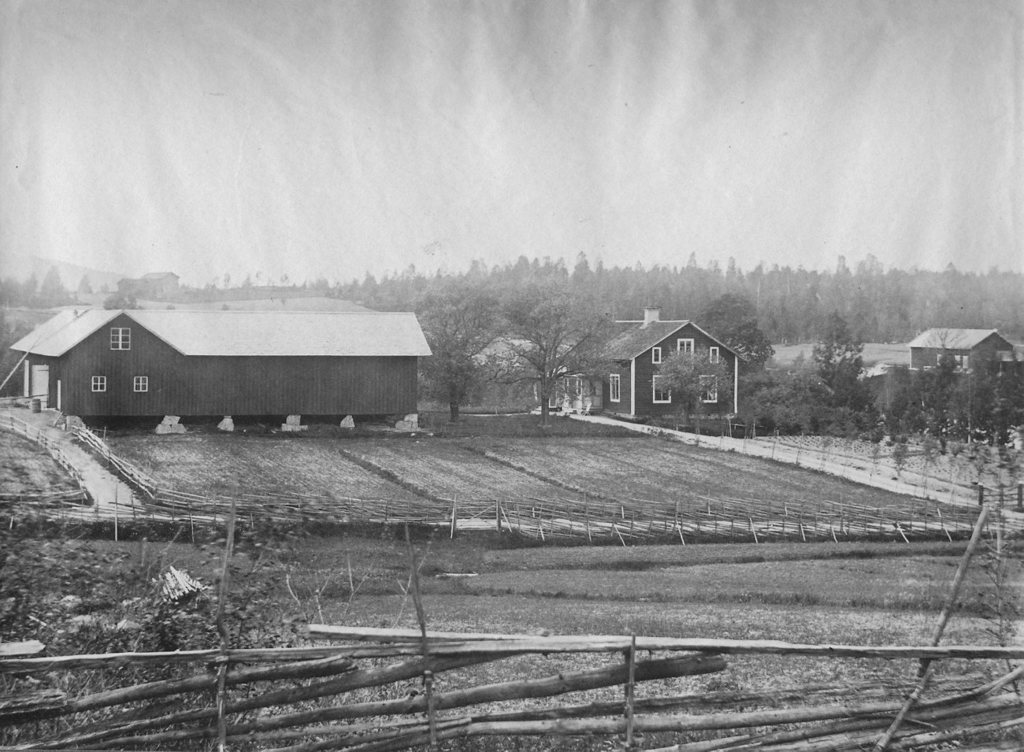Tree: (178, 250, 1023, 343), (462, 278, 612, 417), (415, 286, 522, 422), (647, 348, 734, 436), (725, 364, 833, 434), (693, 289, 774, 366), (809, 311, 868, 399), (954, 348, 1005, 438), (987, 346, 1023, 434), (0, 308, 33, 398), (927, 348, 962, 432), (883, 364, 920, 434), (944, 433, 970, 509), (909, 367, 940, 428), (924, 310, 970, 351), (993, 440, 1018, 506), (854, 381, 880, 440), (35, 263, 69, 308), (916, 437, 942, 494), (888, 434, 911, 477), (900, 388, 921, 433), (817, 420, 836, 468), (970, 441, 991, 484), (795, 408, 811, 463), (102, 288, 140, 311), (772, 414, 791, 460), (831, 403, 860, 433), (841, 429, 858, 478), (20, 271, 40, 304), (0, 277, 20, 303), (869, 433, 879, 484), (76, 271, 96, 294), (100, 281, 110, 292)
